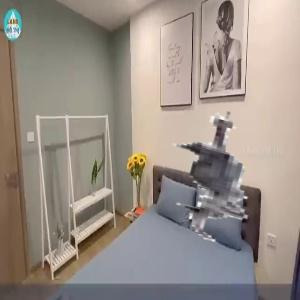drone: (133, 93, 286, 246)
